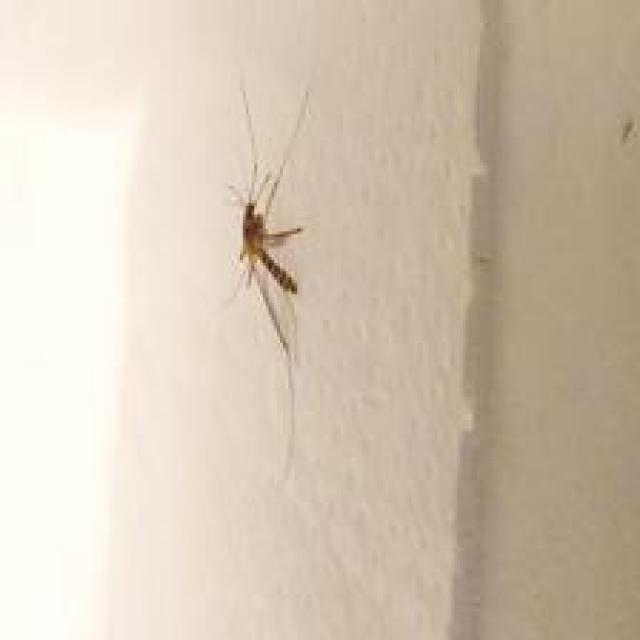Culex: (221, 74, 316, 480)
